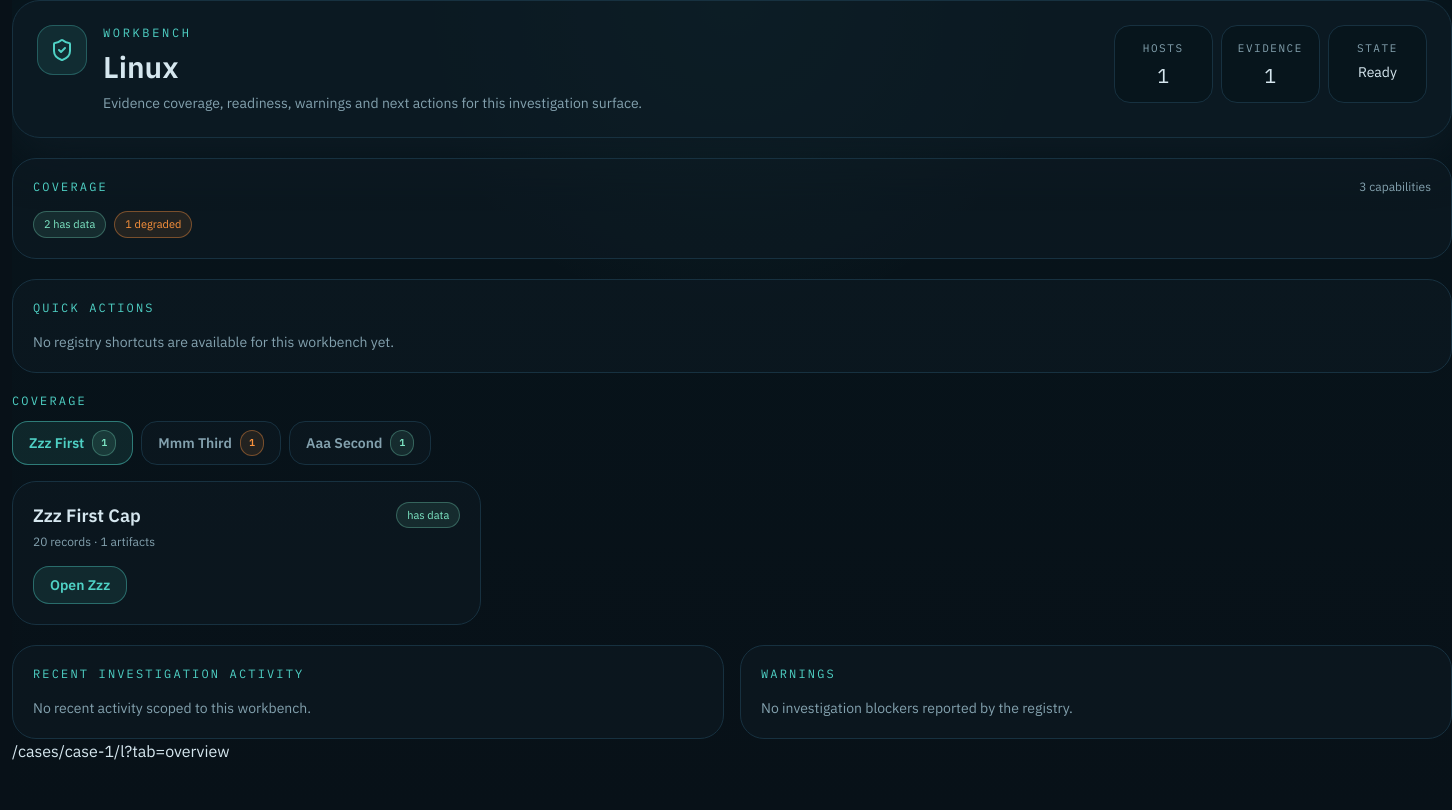
Test: WorkbenchOverview domain tabs › clicking another tab switches the active domain, updates ?domain=, preserves other query params, and swaps the mounted cards
Step 1. Click the tab "Mmm Third 1" → coordinates (211, 442), box [141, 420, 281, 464]
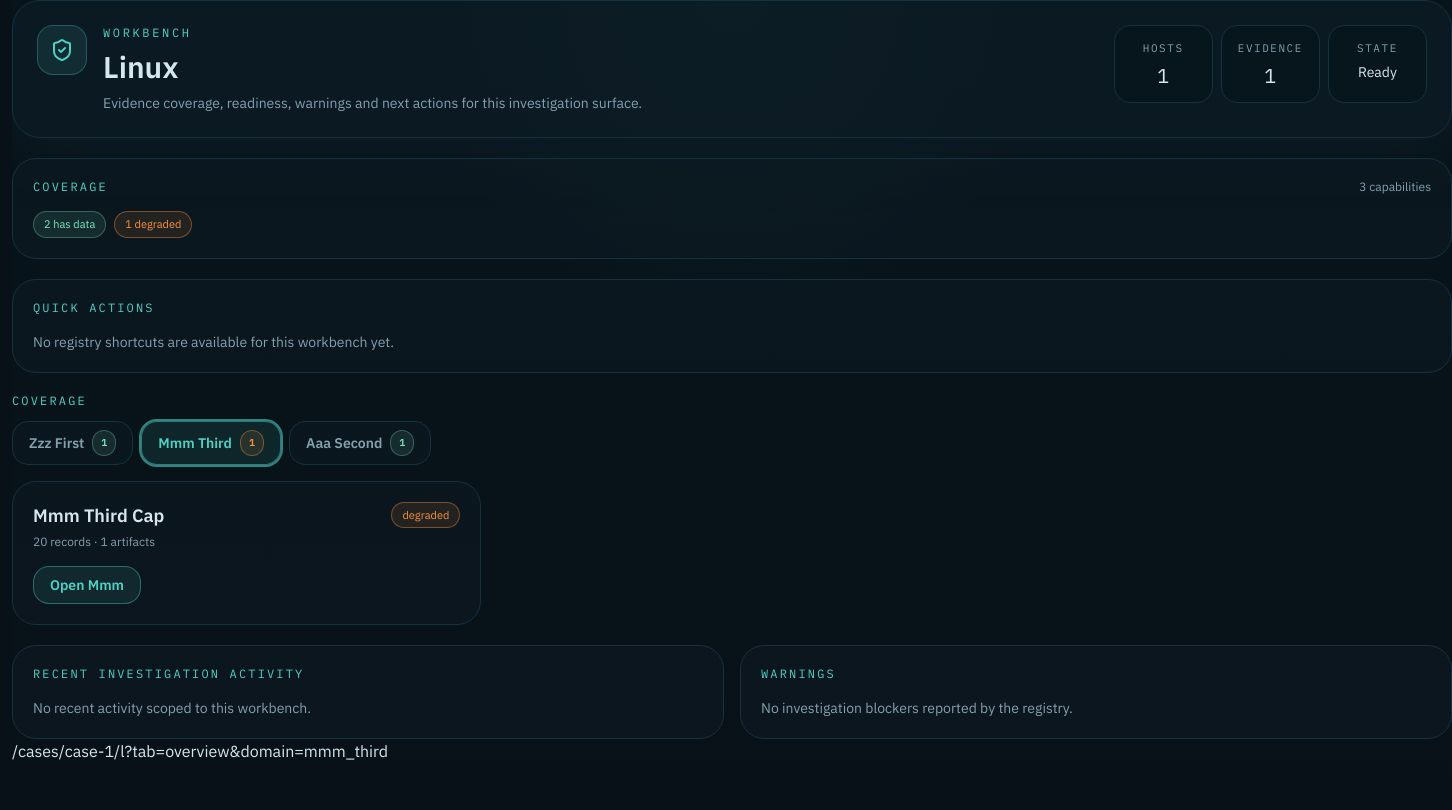
Expected: the text with test id "location-probe" shows "tab=overview", [12, 740, 388, 760]
Expected: the element with test id "capability-surface.mmm_third.a" is shown, [12, 480, 481, 624]
Expected: the text with test id "location-probe" shows "domain=mmm_third", [12, 740, 388, 760]
